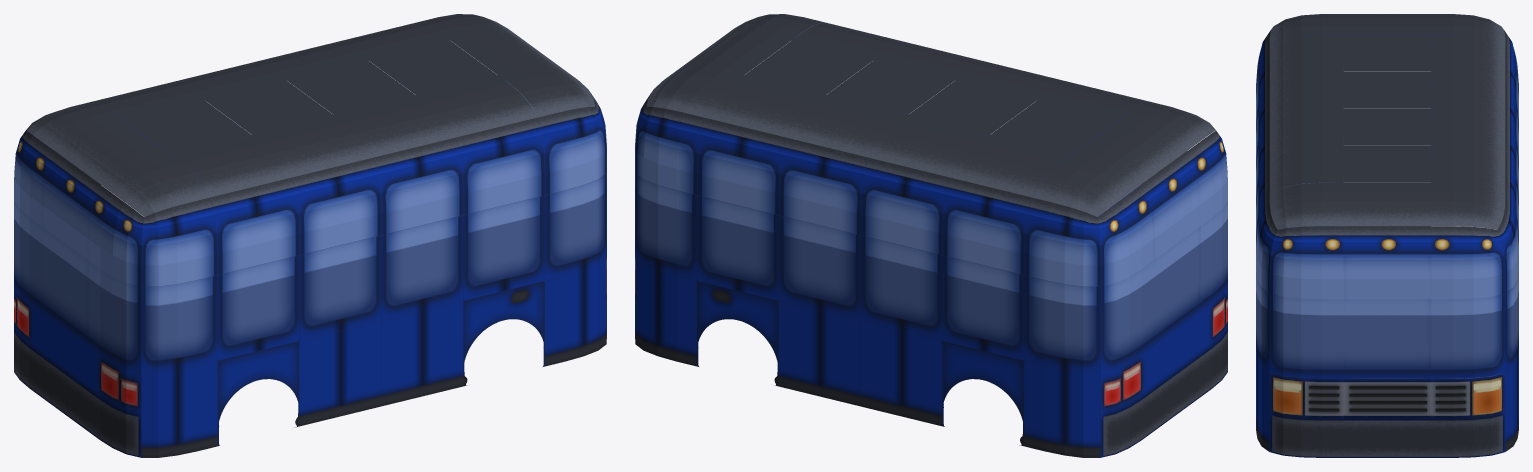
File: buth.dae
3 views of the same model, side by side, from view 1: azimuth 30°, elevation 25°; view 2: azimuth 150°, elevation 25°; view 3: azimuth 270°, elevation 25° (orthographic). The views are drawn at different scales.
Visible parts, largest first — view 1: Cube; view 2: Cube; view 3: Cube.
Boxes of the visible parts, x1,y1,x2,y2 form: Cube: (14,14,606,457); Cube: (635,14,1227,457); Cube: (1256,14,1518,457).
Size of the model in its own units: 12 by 6 by 6.
1 material, 1 textured.
